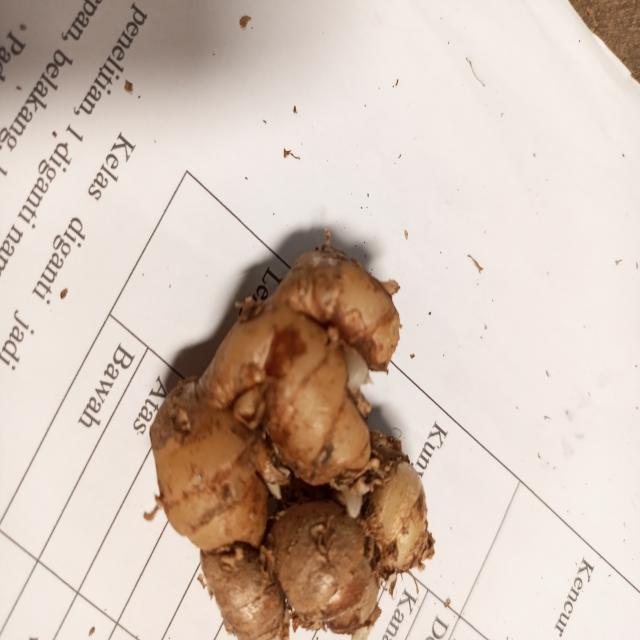ginger: (167, 272, 423, 608)
